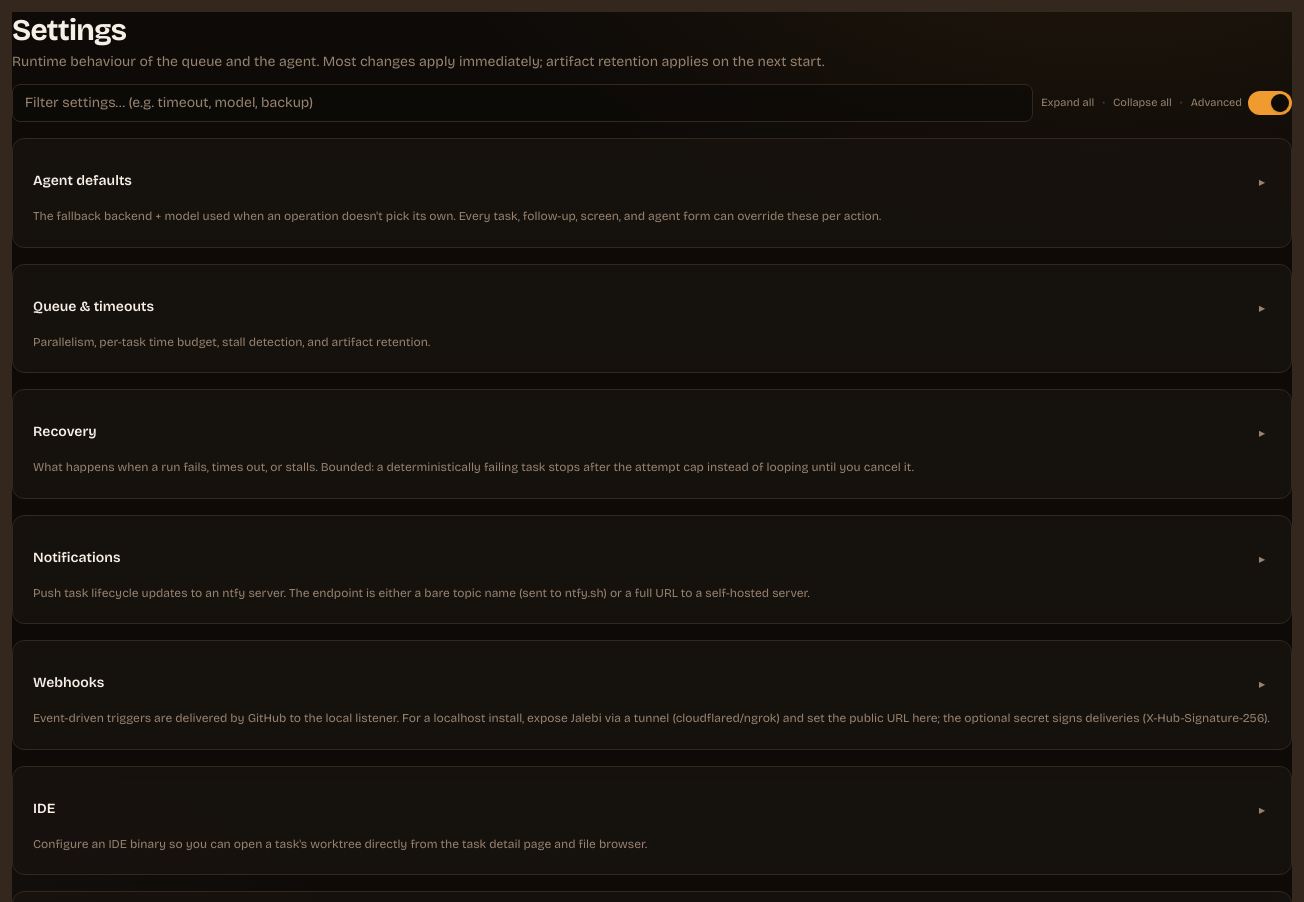
Test: Settings › labels the timeout setting 'Timeout' not 'Default timeout'
expect the field labelled "Filter settings" is shown: met, box x1=12 y1=84 x2=1033 y2=122
Click the button "Queue & timeouts ▸" at (94, 306), box x1=33 y1=284 x2=1271 y2=328
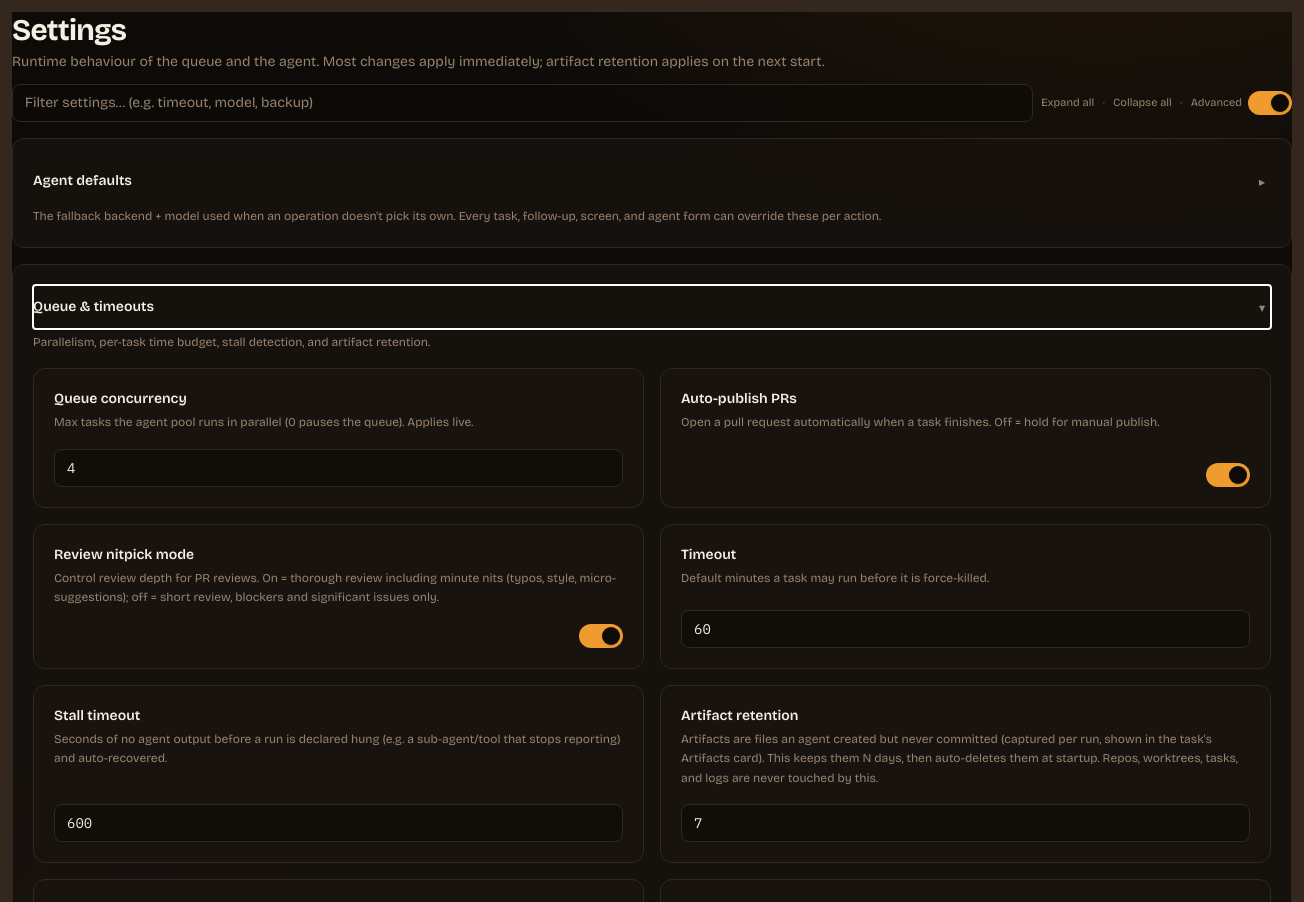
expect the heading "Timeout" is shown: met, box x1=681 y1=544 x2=736 y2=564
